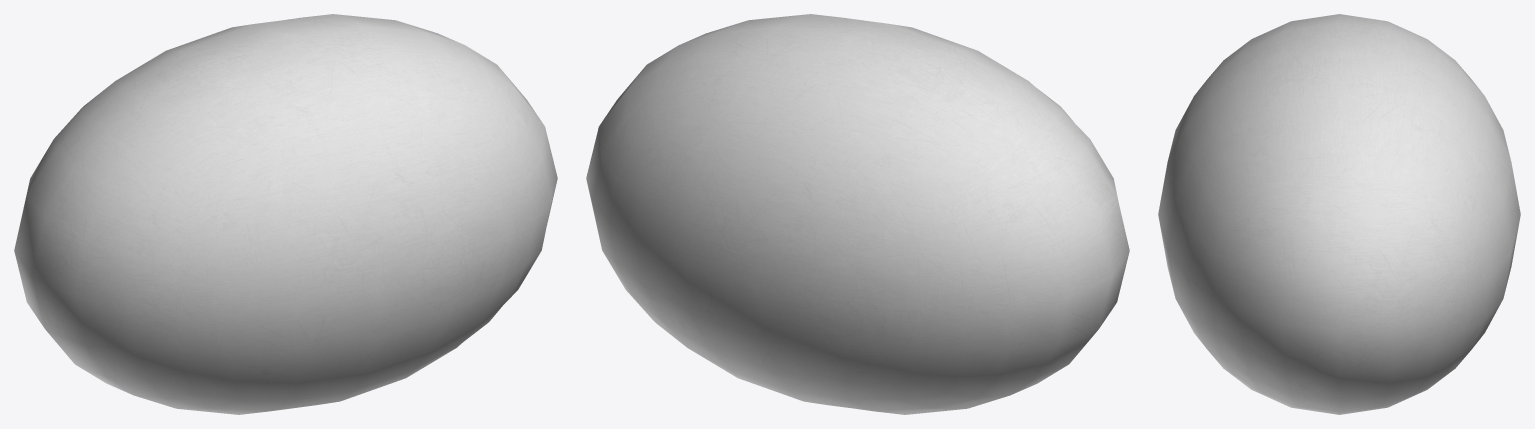
The model's file is ballasttank.obj.
3 renders of one model, left to right at view 1: azimuth 30°, elevation 25°; view 2: azimuth 150°, elevation 25°; view 3: azimuth 270°, elevation 25°, orthographic. The views are drawn at different scales.
Parts seen in each view (by area): view 1: Ballasttank1; view 2: Ballasttank1; view 3: Ballasttank1.
Boxes of the visible parts, box(x1,y1,x2,y2) form: Ballasttank1: box(14, 14, 557, 414); Ballasttank1: box(586, 14, 1129, 414); Ballasttank1: box(1158, 14, 1520, 414).
Bounding box in the file's own units: 9 × 6 × 6.
1 material, 1 textured.
